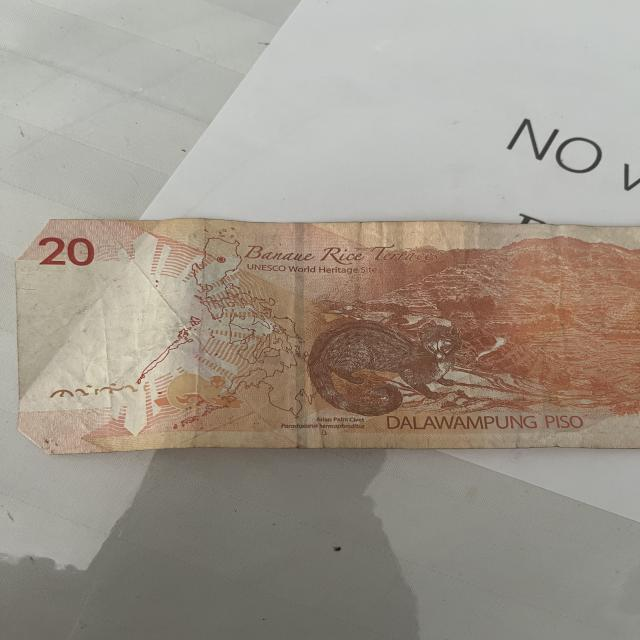20_civet: (310, 314, 462, 414)
20_civet_watermark: (161, 371, 226, 408)
